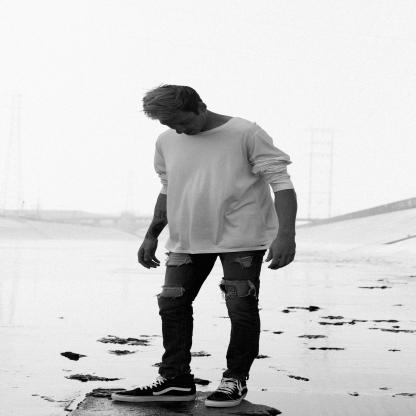dress: (149, 119, 287, 253)
